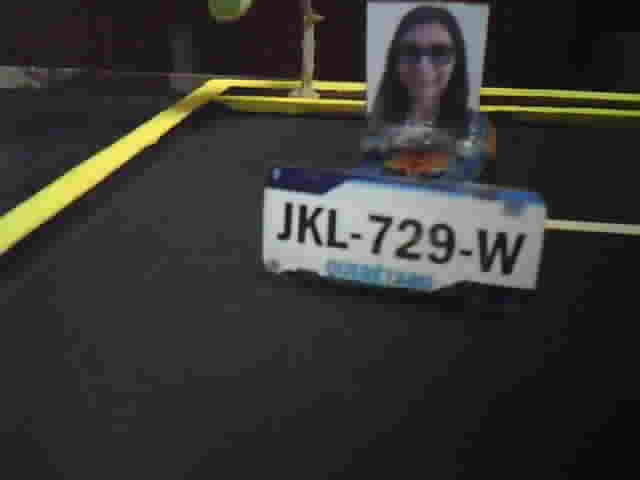PLACA: (257, 163, 551, 314)
ROSTRO: (372, 2, 478, 144)
